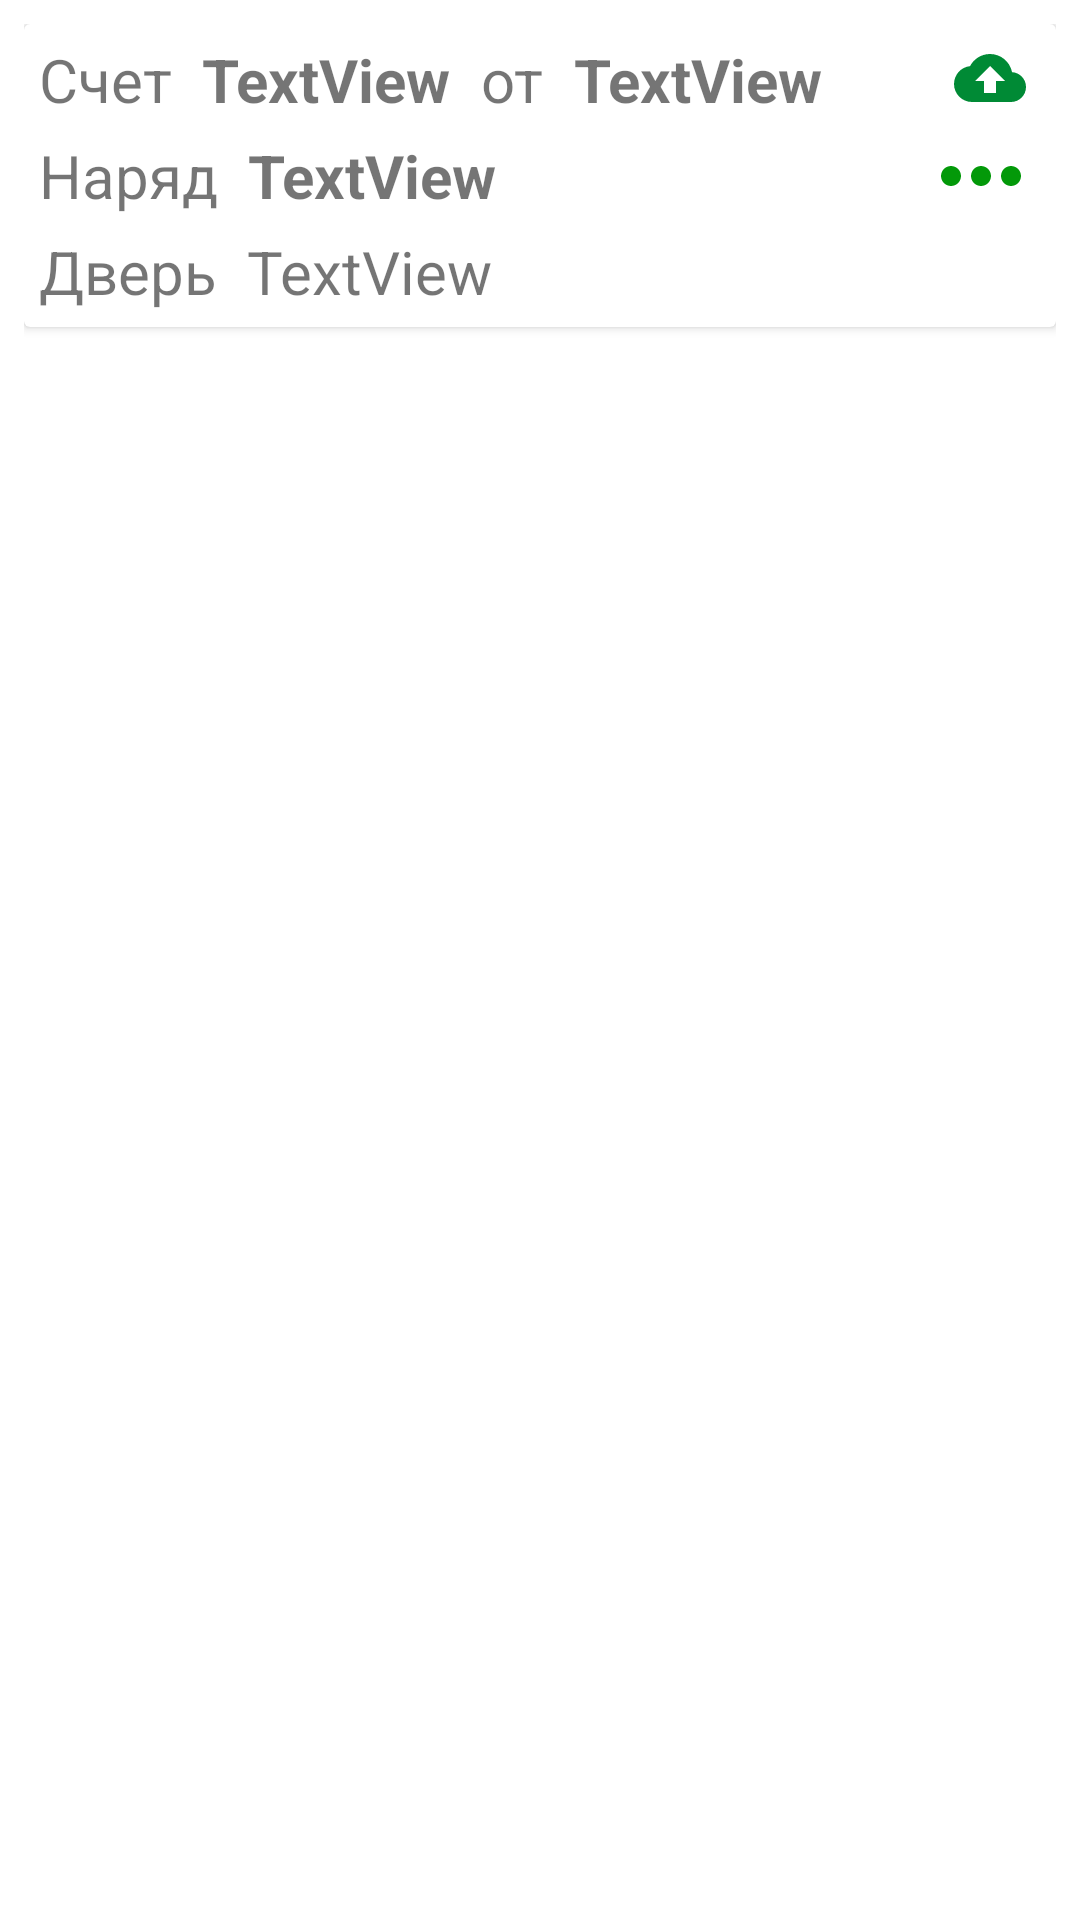

Point at icon controls on the screen. Image size 1080px x 1920px, points as point (x, y).
cloud upload geen: point (990, 78)
more horiz: point (981, 176)
